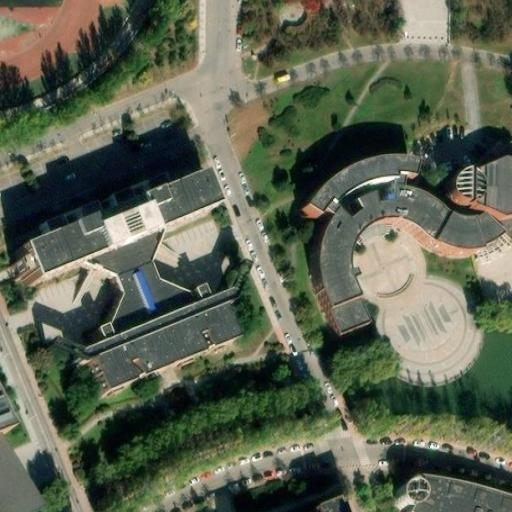building: (294, 146, 512, 319), (26, 276, 272, 420), (95, 263, 196, 355), (35, 190, 156, 255), (0, 427, 45, 512), (78, 238, 145, 286), (254, 485, 351, 512), (396, 495, 512, 512), (0, 379, 18, 428)
